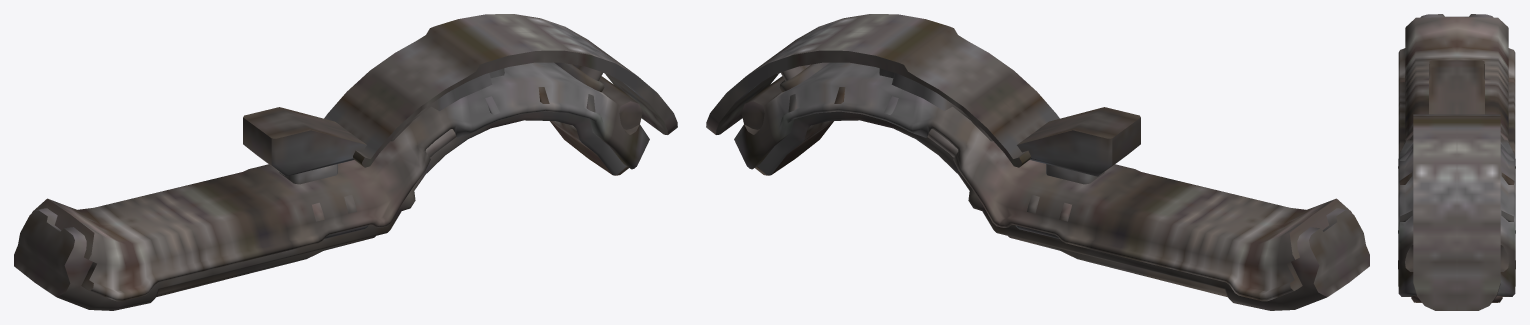
File: HeavyWeapons_Vladof_Shoulder_2.obj
3 views of the same model, side by side, from view 1: azimuth 30°, elevation 25°; view 2: azimuth 150°, elevation 25°; view 3: azimuth 270°, elevation 25° (orthographic). The views are drawn at different scales.
Parts seen in each view (by area): view 1: SK_HW_VLA.315, SK_HW_VLA.316, SK_HW_VLA.318, SK_HW_VLA.320; view 2: SK_HW_VLA.315, SK_HW_VLA.316, SK_HW_VLA.318, SK_HW_VLA.320; view 3: SK_HW_VLA.316, SK_HW_VLA.315.
Boxes of the visible parts, box(x1,y1,x2,y2) form: SK_HW_VLA.315: box(14, 62, 649, 310); SK_HW_VLA.316: box(243, 14, 677, 176); SK_HW_VLA.318: box(279, 164, 337, 184); SK_HW_VLA.320: box(554, 62, 604, 92); SK_HW_VLA.315: box(734, 62, 1369, 310); SK_HW_VLA.316: box(706, 14, 1140, 176); SK_HW_VLA.318: box(1046, 164, 1104, 184); SK_HW_VLA.320: box(779, 62, 829, 92); SK_HW_VLA.316: box(1413, 60, 1500, 310); SK_HW_VLA.315: box(1398, 14, 1515, 302).
Size of the model in its own units: 50.83 by 12.8 by 9.46.
